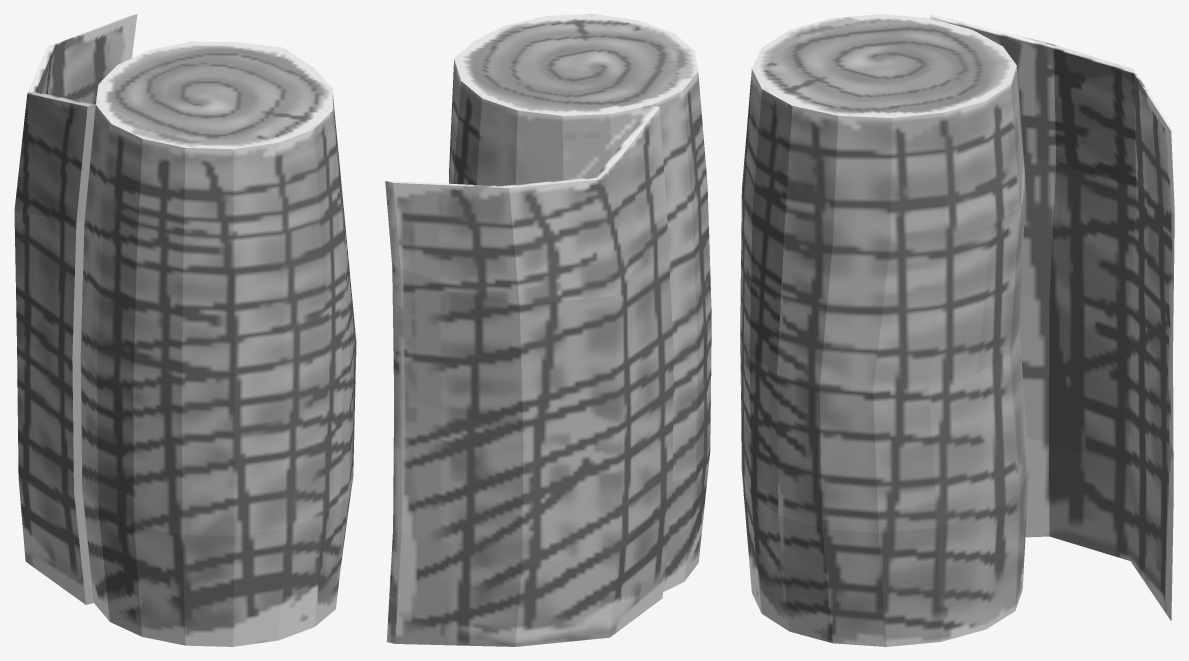
File: Bandage.glb
The picture shows the model from 3 angles, left to right: view 1: azimuth 30°, elevation 25°; view 2: azimuth 150°, elevation 25°; view 3: azimuth 270°, elevation 25°; orthographic projection. The views are drawn at different scales.
Visible parts, largest first — view 1: Bandage; view 2: Bandage; view 3: Bandage.
Boxes of the visible parts, box(x1,y1,x2,y2) form: Bandage: box(14, 14, 356, 646); Bandage: box(385, 14, 711, 646); Bandage: box(740, 14, 1174, 646).
Size of the model in its own units: 0.1748 by 0.3504 by 0.2605.
1 material, 1 textured.
